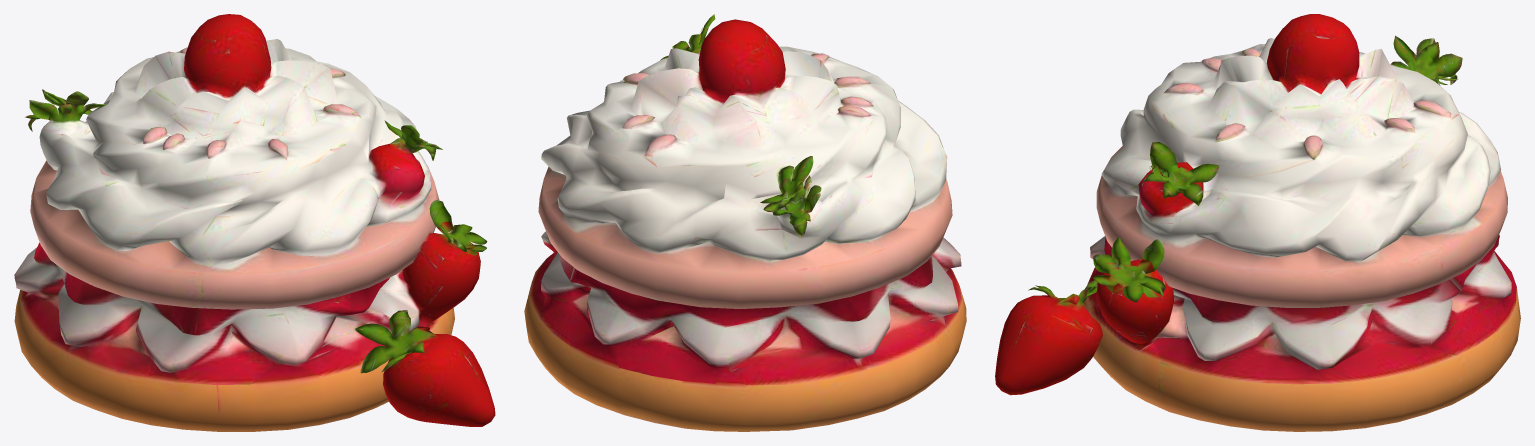
File: p_cake.glb
3 renders of one model, left to right at view 1: azimuth 30°, elevation 25°; view 2: azimuth 150°, elevation 25°; view 3: azimuth 270°, elevation 25°, orthographic.
Size of the model in its own units: 0.8057 by 0.6646 by 0.9512.
Materials: 1 (1 with a texture image).
